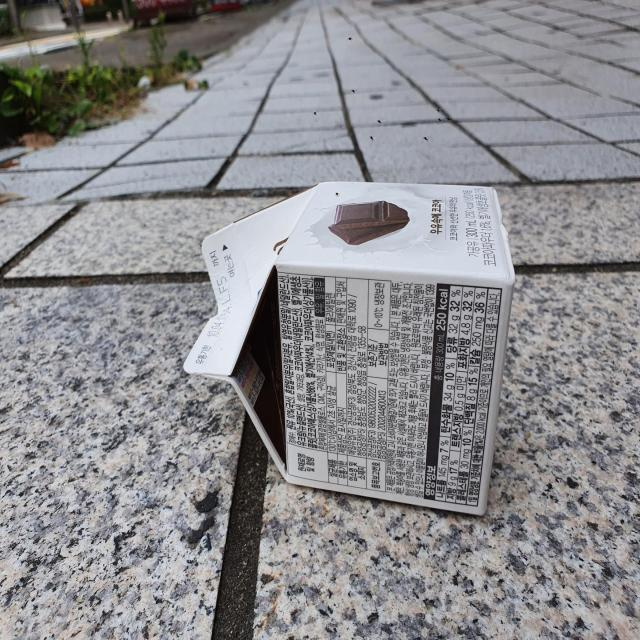paperpack: (184, 182, 516, 515)
